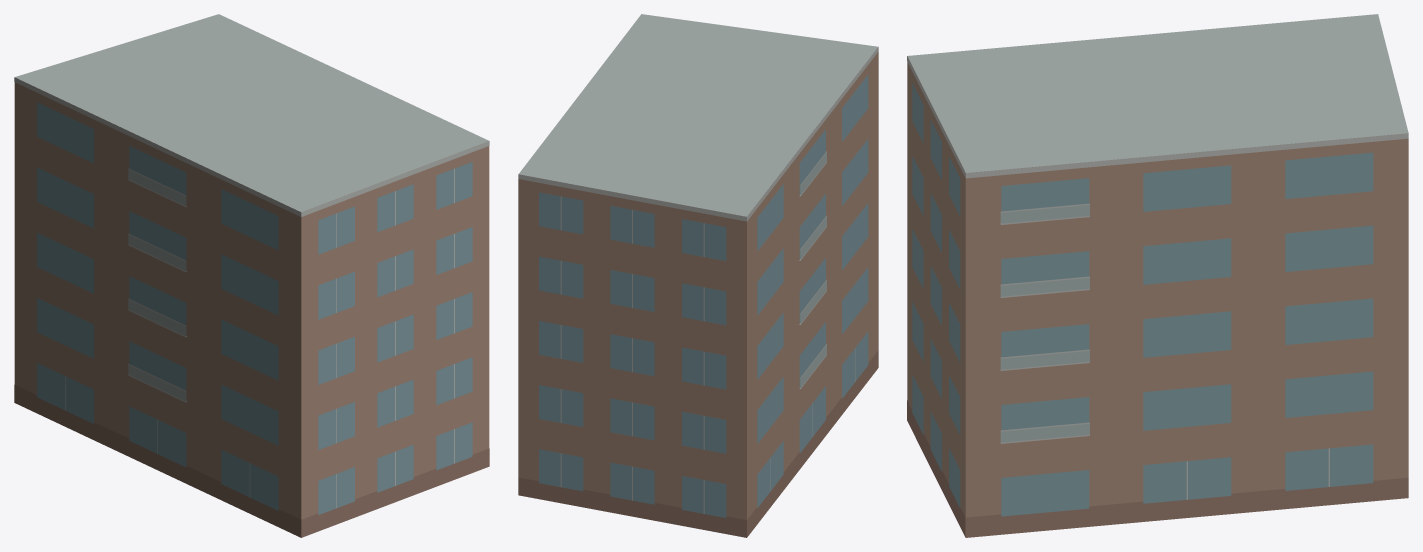
File: survey-upis-32694442.glb
3 views of the same model, side by side, from view 1: azimuth 30°, elevation 25°; view 2: azimuth 150°, elevation 25°; view 3: azimuth 270°, elevation 25° (orthographic). The views are drawn at different scales.
Visible parts, largest first — view 1: survey-upis-32694442.tmp; view 2: survey-upis-32694442.tmp; view 3: survey-upis-32694442.tmp.
Part boxes in pixels (x1,y1,x2,y2): survey-upis-32694442.tmp: (14,14,489,537); survey-upis-32694442.tmp: (518,14,878,537); survey-upis-32694442.tmp: (907,14,1408,537).
Size of the model in its own units: 15.44 by 16.5 by 20.56.
